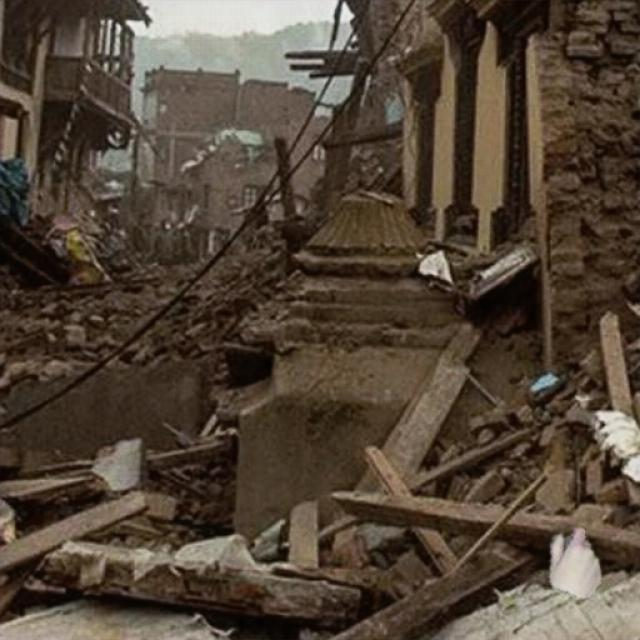Person in Rubble: (549, 528, 600, 598)
